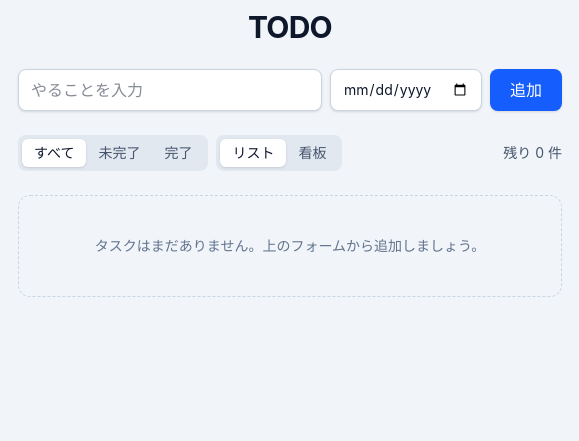
Scenario: App › 個別削除ができる
The image size is (579, 441).
Type "A" into the field labelled "やること".
click(170, 90); type("A")  # box [18, 69, 322, 111]
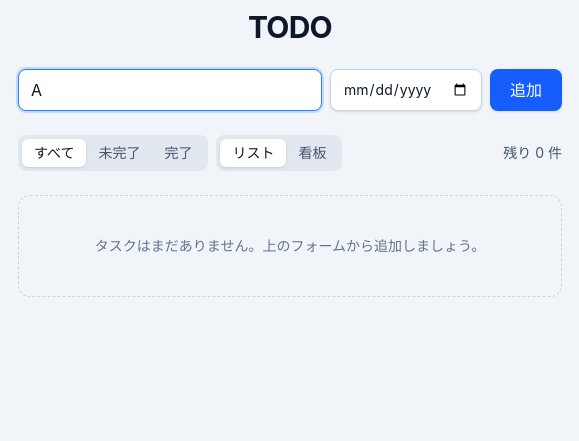
Click the button "追加".
click(526, 90)  # box [490, 69, 562, 111]
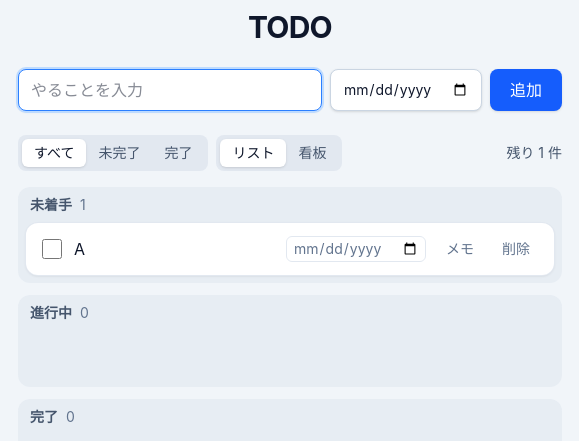
Click the button with aria-label "「A」を削除".
click(516, 249)  # box [494, 235, 538, 263]
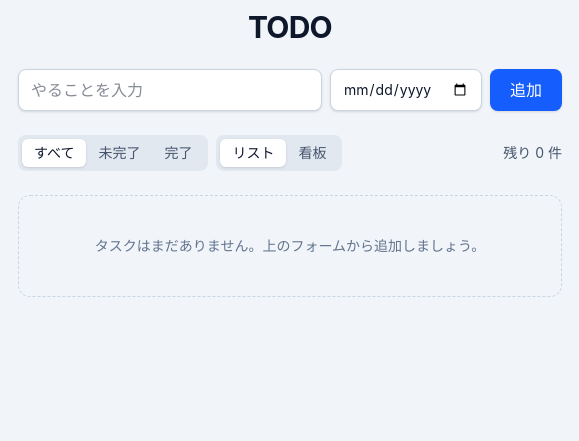
Now the list item "A メモ 削除" is gone
